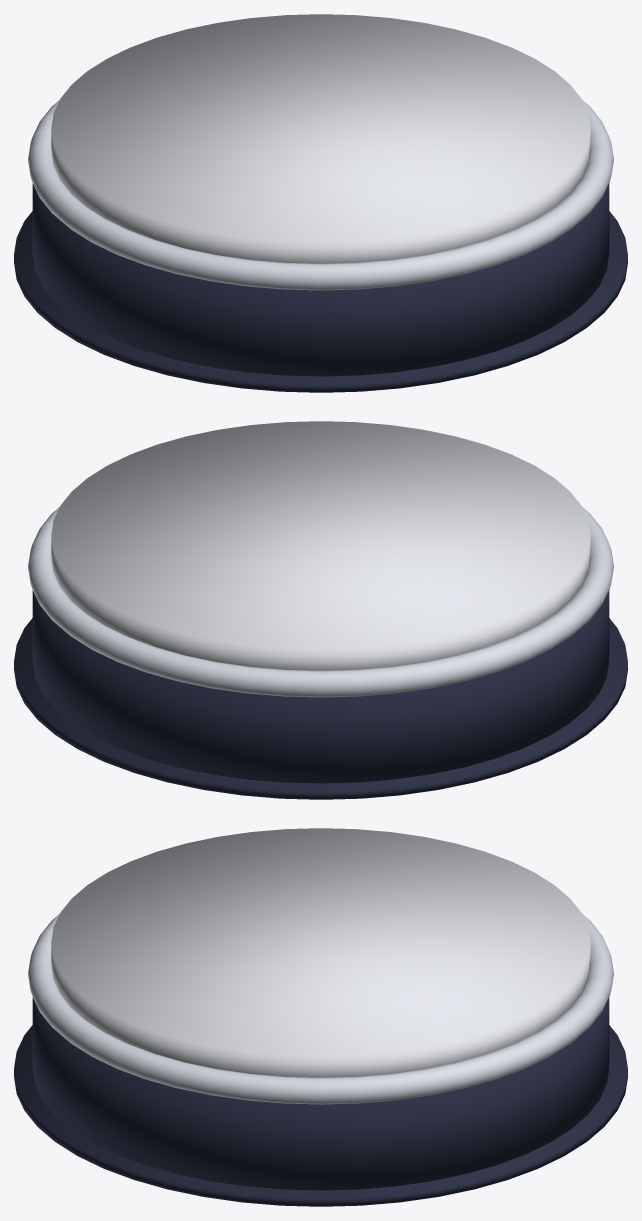
Rendered from SM_Pedestal_Base.fbx.
The picture shows the model from 3 angles, top to bottom: view 1: azimuth 30°, elevation 25°; view 2: azimuth 150°, elevation 25°; view 3: azimuth 270°, elevation 25°; orthographic projection.
Visible parts, largest first — view 1: SM_Pedestal_Base; view 2: SM_Pedestal_Base; view 3: SM_Pedestal_Base.
Part boxes in pixels (left/top/right/bottom): SM_Pedestal_Base: left=14, top=14, right=627, bottom=392; SM_Pedestal_Base: left=14, top=421, right=627, bottom=799; SM_Pedestal_Base: left=14, top=828, right=627, bottom=1206.
Size of what is drawn, in the model's own units: 1.32 by 0.32 by 1.32.
Materials: 1 (1 with a texture image).
